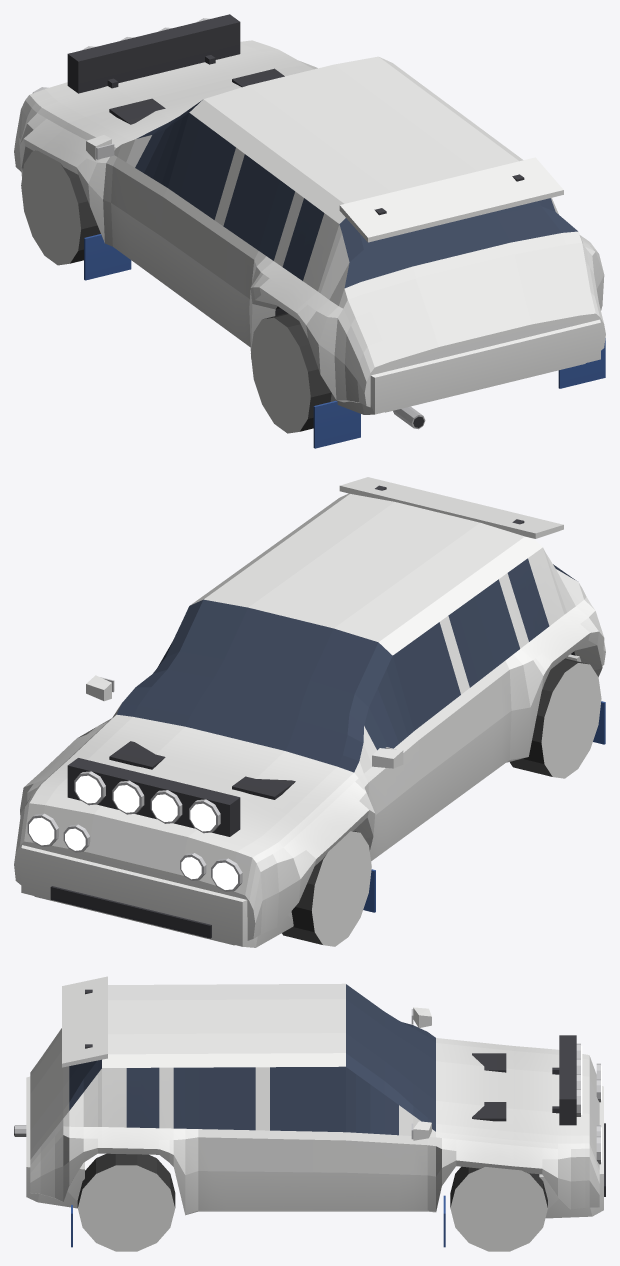
Rendered from martello.glb.
3 renders of one model, top to bottom at view 1: azimuth 30°, elevation 25°; view 2: azimuth 150°, elevation 25°; view 3: azimuth 270°, elevation 25°, orthographic. The views are drawn at different scales.
Visible parts, largest first — view 1: Body, Bumper_R, Spoiler, LightPod, Wheel_RL, Wheel_FL, MudFlaps; view 2: Body, Bumper_F, LightPod, Wheel_RL, Wheel_FL, Spoiler, MudFlaps; view 3: Body, Wheel_RR, Wheel_FR, Spoiler, LightPod, Bumper_F, Bumper_R.
Part boxes in pixels (left/top/right/bottom): Body: left=14, top=40, right=605, bottom=412; Bumper_R: left=330, top=319, right=600, bottom=414; Spoiler: left=339, top=157, right=563, bottom=242; LightPod: left=67, top=14, right=240, bottom=93; Wheel_RL: left=250, top=313, right=331, bottom=433; Wheel_FL: left=21, top=150, right=100, bottom=265; MudFlaps: left=84, top=234, right=605, bottom=448; Body: left=14, top=493, right=605, bottom=945; Bumper_F: left=21, top=845, right=293, bottom=947; LightPod: left=67, top=758, right=240, bottom=836; Wheel_RL: left=510, top=658, right=601, bottom=778; Wheel_FL: left=282, top=831, right=371, bottom=946; Spoiler: left=339, top=477, right=563, bottom=538; MudFlaps: left=363, top=701, right=605, bottom=912; Body: left=30, top=983, right=601, bottom=1215; Wheel_RR: left=77, top=1153, right=175, bottom=1251; Wheel_FR: left=450, top=1166, right=547, bottom=1251; Spoiler: left=62, top=976, right=107, bottom=1067; LightPod: left=552, top=1035, right=582, bottom=1125; Bumper_F: left=539, top=1086, right=605, bottom=1218; Bumper_R: left=26, top=1076, right=84, bottom=1208.
Bounding box in the file's own units: 2.01 × 1.38 × 4.13.
